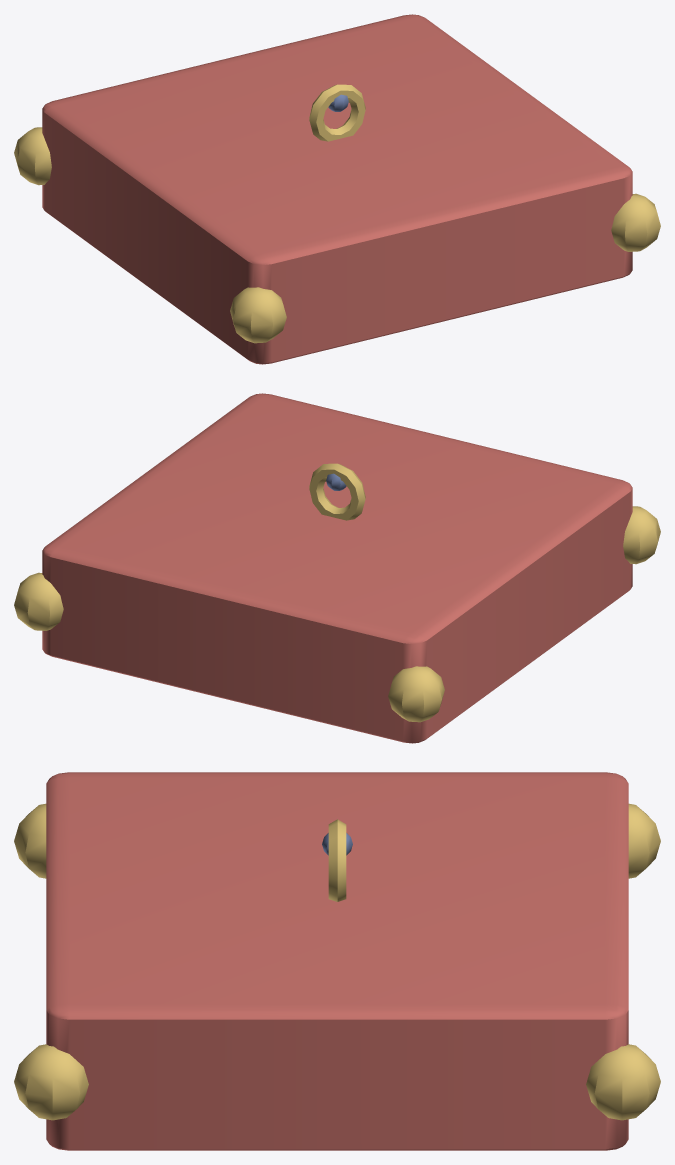
Rendered from Suweng_Cushion.fbx.
3 views of the same model, one above another, from view 1: azimuth 30°, elevation 25°; view 2: azimuth 150°, elevation 25°; view 3: azimuth 270°, elevation 25° (orthographic). The views are drawn at different scales.
Visible parts, largest first — view 1: Suweng_Cushion; view 2: Suweng_Cushion; view 3: Suweng_Cushion.
Boxes of the visible parts, x1,y1,x2,y2 form: Suweng_Cushion: [14, 14, 660, 364]; Suweng_Cushion: [14, 393, 660, 743]; Suweng_Cushion: [14, 772, 660, 1150].
Size of the model in its own units: 0.5 by 0.178 by 0.5.
